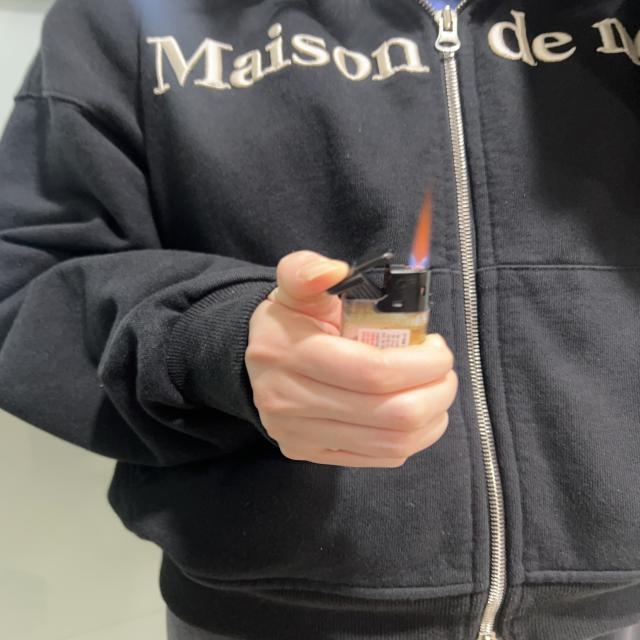fire: (410, 196, 434, 268)
